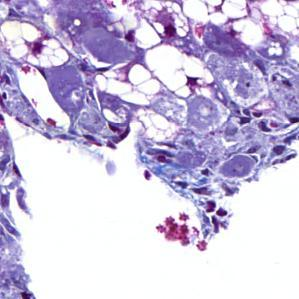ballooning: (143, 42, 217, 100), (4, 17, 72, 71), (92, 62, 162, 110), (180, 3, 250, 29)
